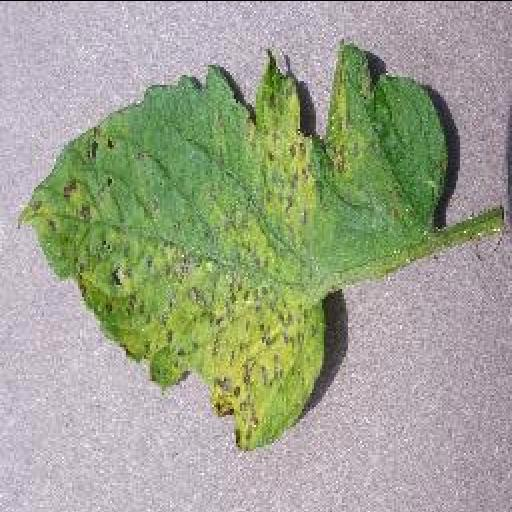disease_tomato: (20, 42, 448, 456)
